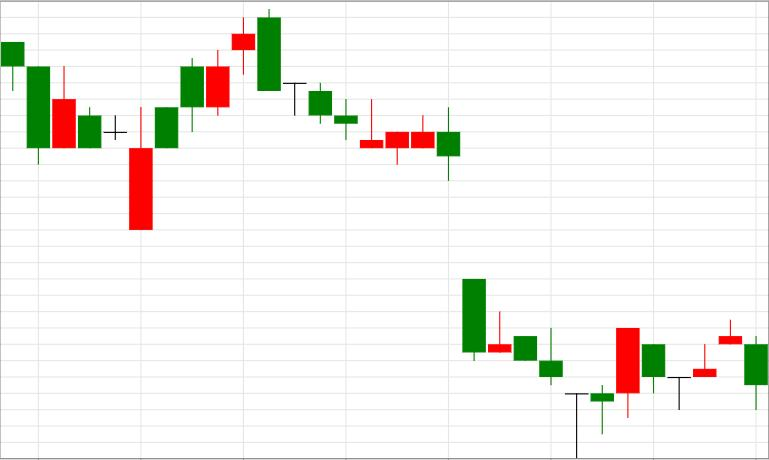bearish_engulfing_fall: (129, 9, 281, 231)
